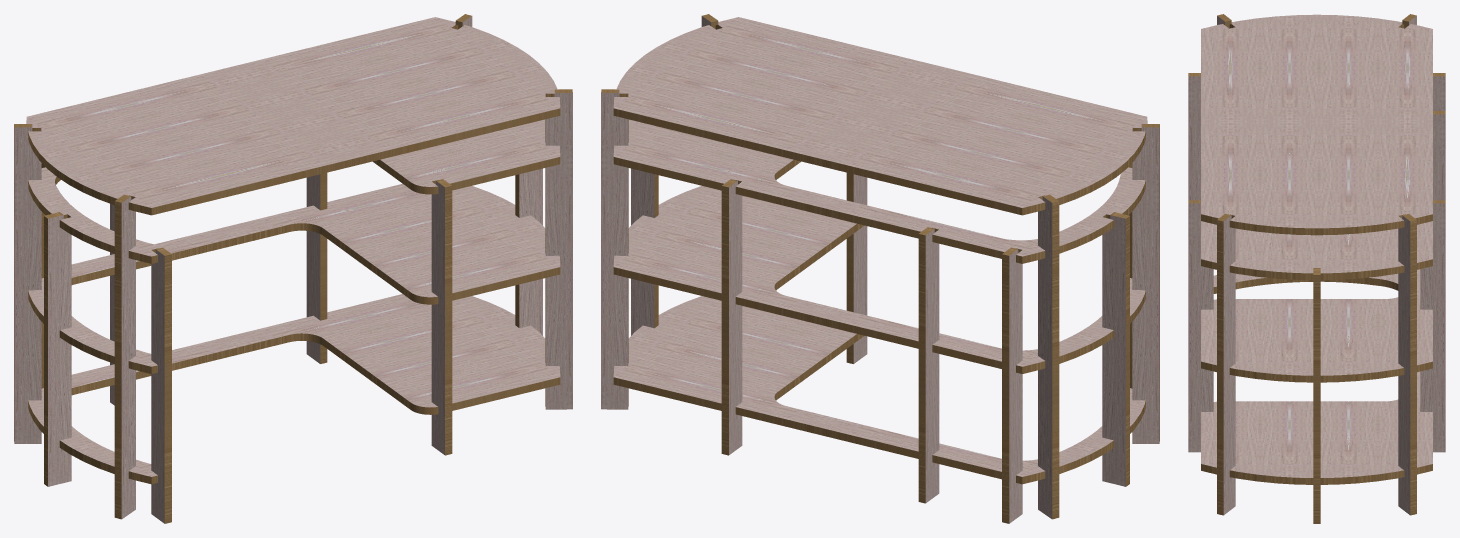
The model's file is NODO_ESCRITORIO_PARAISO_V2.glb.
3 renders of one model, left to right at view 1: azimuth 30°, elevation 25°; view 2: azimuth 150°, elevation 25°; view 3: azimuth 270°, elevation 25°, orthographic. The views are drawn at different scales.
Visible parts, largest first — view 1: Tapa, Estante_inferior_2, Estante_inferior_1, Estante_inferior_3, Lateral_izquierdo_atras, Lateral_derecho_frente, Montante_corto_extremo_izquierdo, Lateral_izquierdo_frente, Montante_bajo_2, Montante_bajo_1, Montante_bajo_5, Montante_corto_extremo_derecho; view 2: Tapa, Estante_inferior_1, Estante_inferior_2, Estante_inferior_3, Lateral_izquierdo_frente, Lateral_derecho_atras, Montante_corto_extremo_izquierdo, Lateral_izquierdo_atras, Montante_bajo_5, Montante_bajo_4, Montante_bajo_3, Montante_bajo_2 (+1 smaller); view 3: Tapa, Estante_inferior_1, Estante_inferior_2, Estante_inferior_3, Lateral_derecho_frente, Lateral_derecho_atras, Montante_bajo_2, Montante_bajo_5, Montante_corto_extremo_derecho, Montante_bajo_1, Montante_bajo_4, Montante_bajo_3.
Part boxes in pixels (box(x1,y1,x2,y2)): Tapa: box(26, 17, 560, 215); Estante_inferior_2: box(28, 183, 560, 373); Estante_inferior_1: box(28, 294, 560, 484); Estante_inferior_3: box(28, 119, 560, 263); Lateral_izquierdo_atras: box(14, 124, 41, 443); Lateral_derecho_frente: box(545, 89, 572, 409); Montante_corto_extremo_izquierdo: box(44, 212, 71, 486); Lateral_izquierdo_frente: box(114, 194, 135, 519); Montante_bajo_2: box(431, 179, 452, 455); Montante_bajo_1: box(151, 247, 171, 523); Montante_bajo_5: box(306, 172, 327, 363); Montante_corto_extremo_derecho: box(515, 168, 542, 335); Tapa: box(613, 17, 1147, 215); Estante_inferior_1: box(613, 296, 1145, 484); Estante_inferior_2: box(613, 186, 1145, 373); Estante_inferior_3: box(613, 119, 1145, 263); Lateral_izquierdo_frente: box(1132, 124, 1159, 443); Lateral_derecho_atras: box(601, 89, 628, 409); Montante_corto_extremo_izquierdo: box(1102, 212, 1129, 486); Lateral_izquierdo_atras: box(1038, 194, 1059, 519); Montante_bajo_5: box(721, 179, 742, 455); Montante_bajo_4: box(918, 227, 939, 503); Montante_bajo_3: box(1002, 247, 1022, 523); Montante_bajo_2: box(846, 172, 867, 363); Tapa: box(1201, 14, 1432, 235); Estante_inferior_1: box(1201, 273, 1432, 484); Estante_inferior_2: box(1201, 269, 1432, 382); Estante_inferior_3: box(1201, 221, 1432, 280); Lateral_derecho_frente: box(1217, 213, 1235, 515); Lateral_derecho_atras: box(1398, 213, 1416, 515); Montante_bajo_2: box(1188, 200, 1213, 452); Montante_bajo_5: box(1420, 200, 1445, 452); Montante_corto_extremo_derecho: box(1313, 268, 1320, 523); Montante_bajo_1: box(1188, 73, 1200, 200); Montante_bajo_4: box(1433, 111, 1445, 200); Montante_bajo_3: box(1433, 73, 1445, 110).
Bounding box in the file's own units: 1.26 × 0.77 × 0.61.
Materials: 2 (2 with a texture image).
